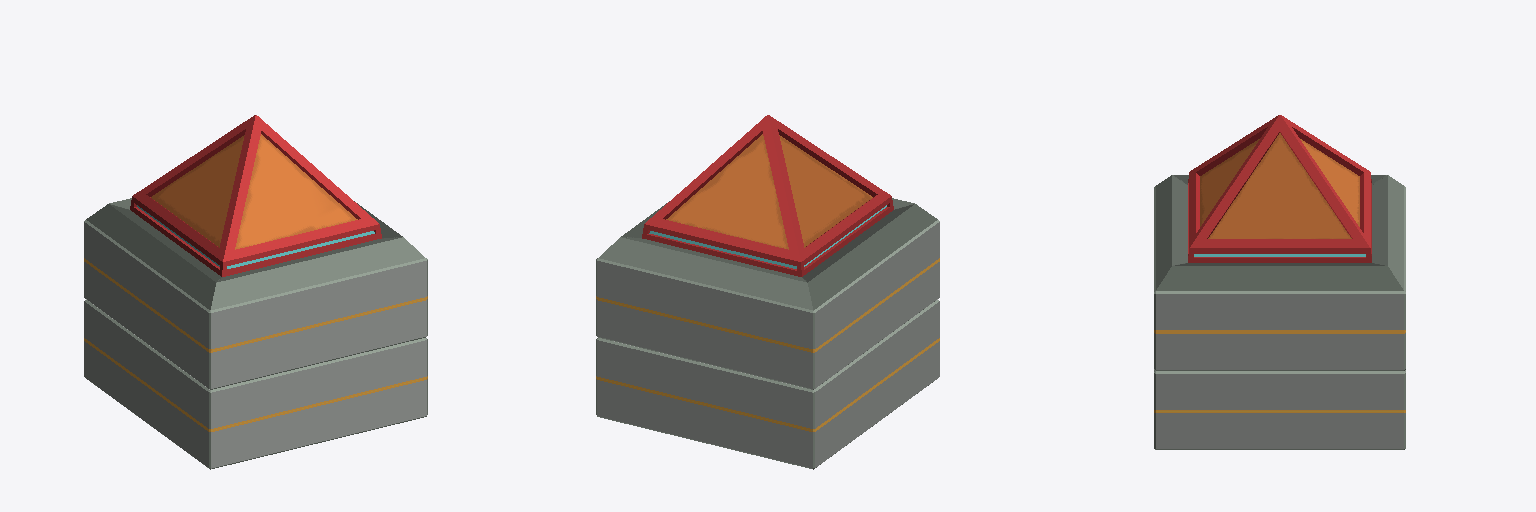
The picture shows the model from 3 angles: view 1: azimuth 30°, elevation 25°; view 2: azimuth 150°, elevation 25°; view 3: azimuth 270°, elevation 25°; orthographic projection.
Parts seen in each view (by area): view 1: Cube.001, Cube.002; view 2: Cube.001, Cube.002; view 3: Cube.001, Cube.002.
Part boxes in pixels (x1,y1,x2,y2): Cube.001: (84, 115, 427, 389); Cube.002: (84, 299, 427, 469); Cube.001: (596, 115, 939, 389); Cube.002: (596, 299, 939, 469); Cube.001: (1154, 115, 1405, 370); Cube.002: (1154, 370, 1405, 449).
Bounding box in the file's own units: 2 × 2.47 × 2.
Materials: 1 (1 with a texture image).